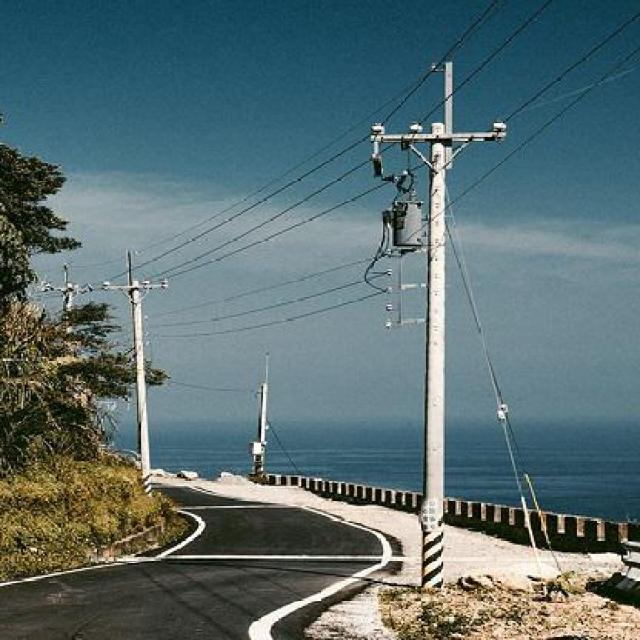pole: (362, 63, 516, 582), (103, 249, 177, 486)
